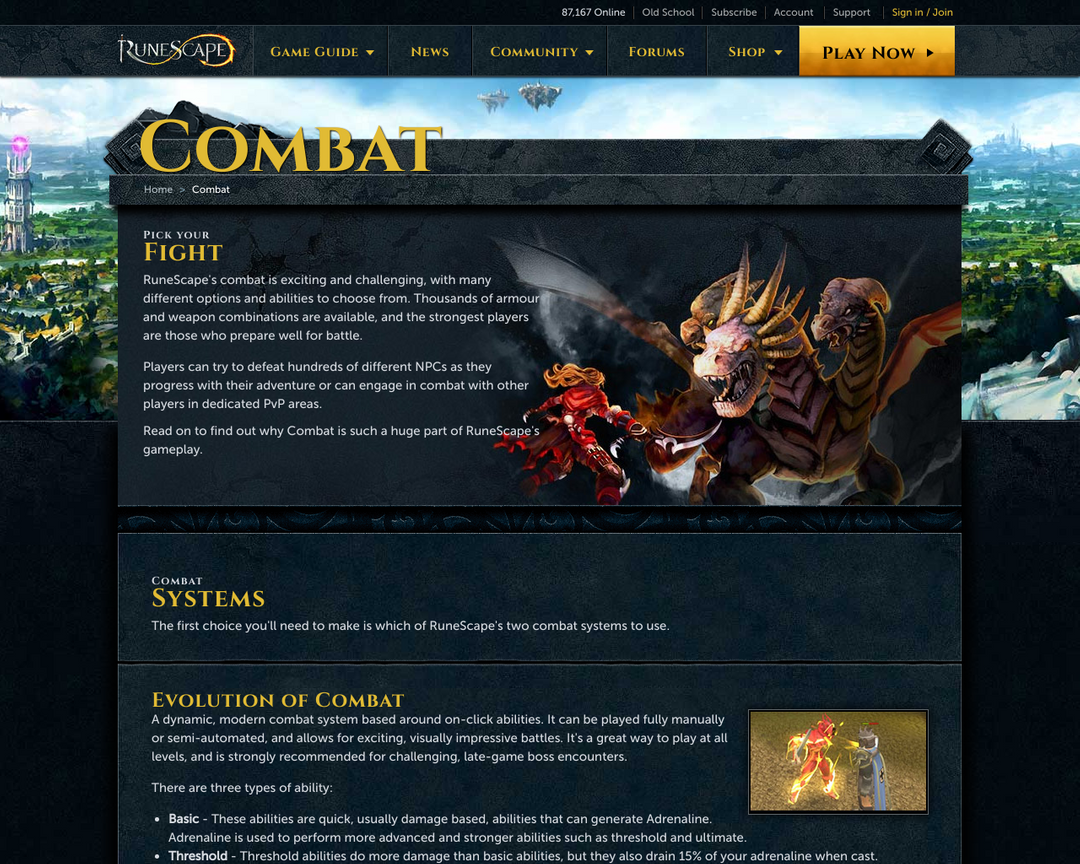Runescape: (114, 27, 241, 70)
